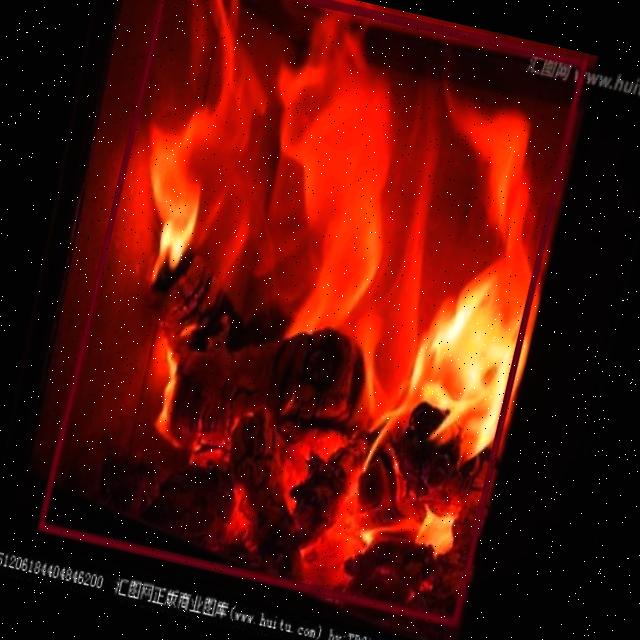fire: (35, 0, 586, 625)
